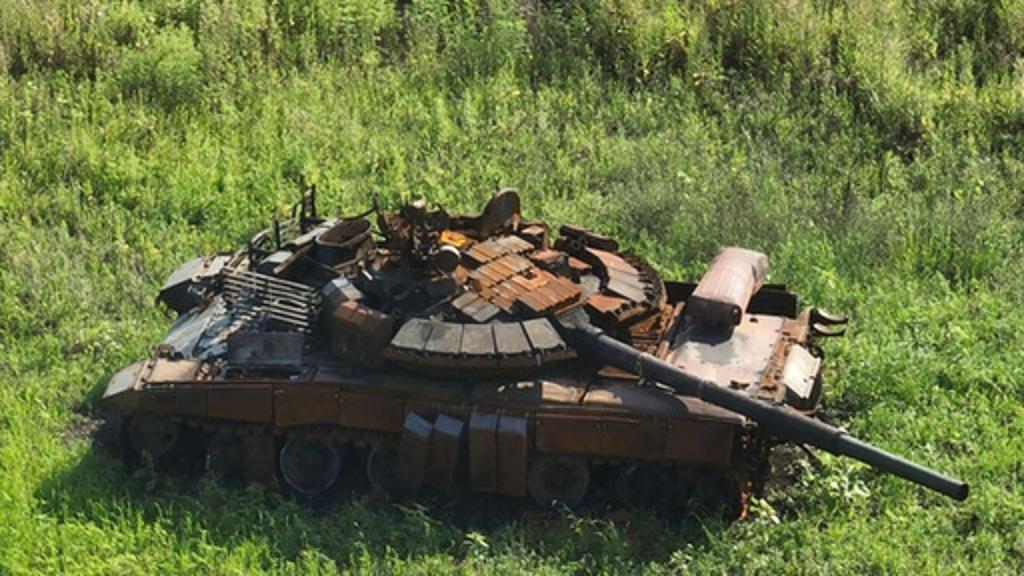TANK: (90, 184, 970, 534)
